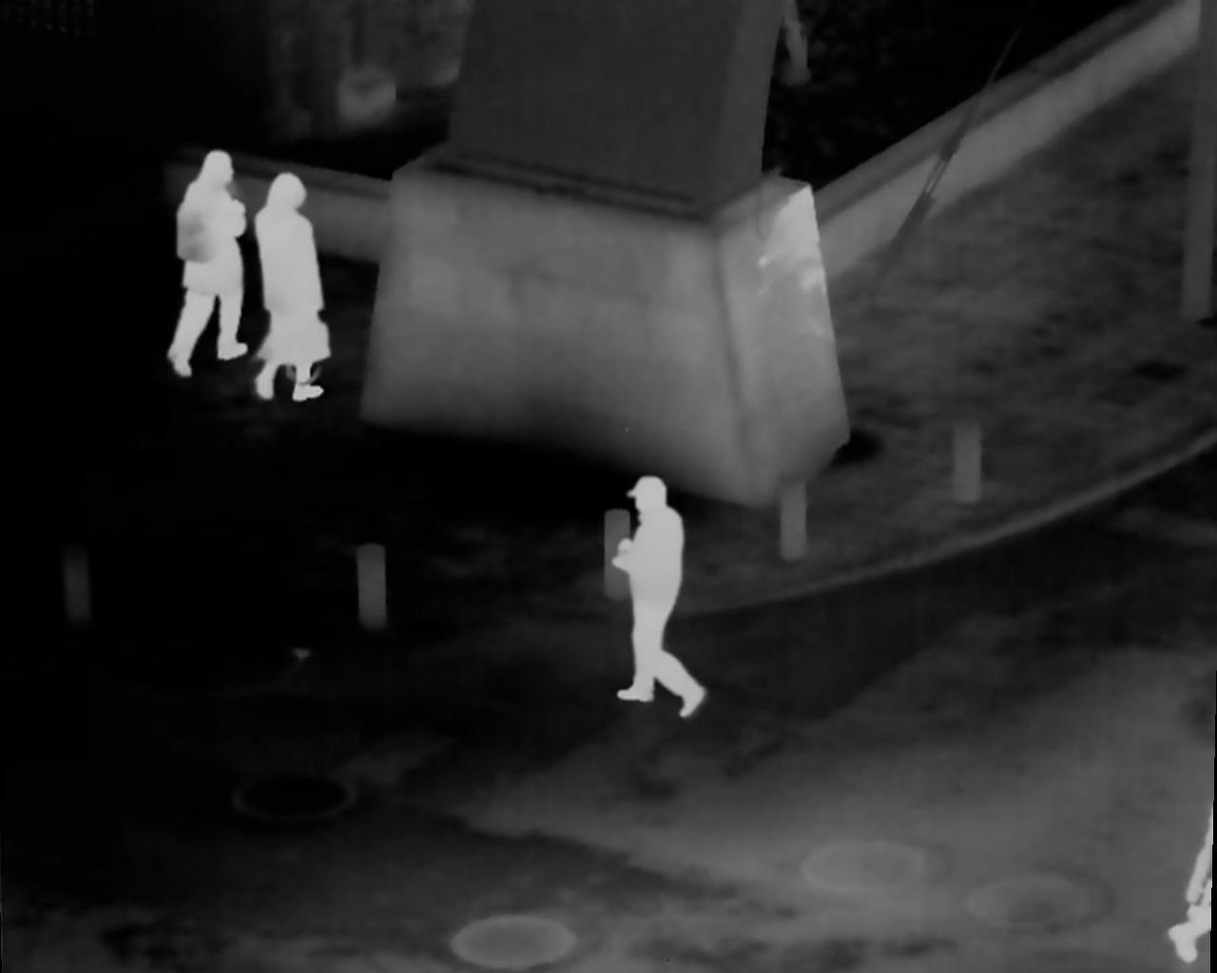person: (608, 474, 706, 722), (164, 151, 249, 376), (250, 177, 330, 401)
